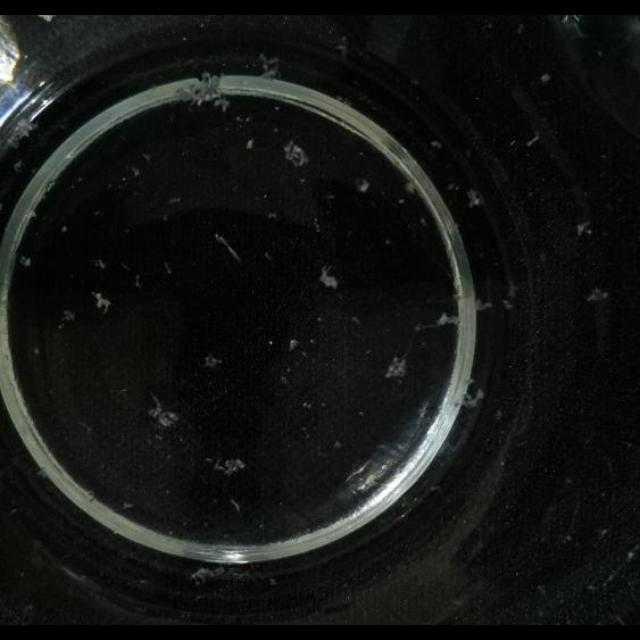Fibre: (181, 72, 227, 112), (147, 394, 179, 428), (283, 140, 309, 168), (212, 458, 245, 477), (192, 566, 220, 588), (384, 356, 410, 379), (462, 388, 484, 410), (92, 292, 111, 314), (203, 354, 223, 368), (436, 312, 456, 326), (354, 178, 370, 192), (60, 310, 76, 324)
microbeads: (318, 266, 340, 290), (586, 287, 610, 303), (466, 189, 482, 207), (576, 221, 592, 237), (20, 255, 32, 268), (540, 72, 552, 84), (289, 338, 301, 350), (626, 547, 636, 561), (246, 138, 254, 150)
